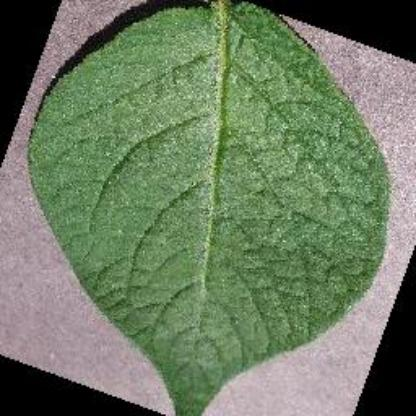Healthy-plant: (31, 0, 391, 416)
